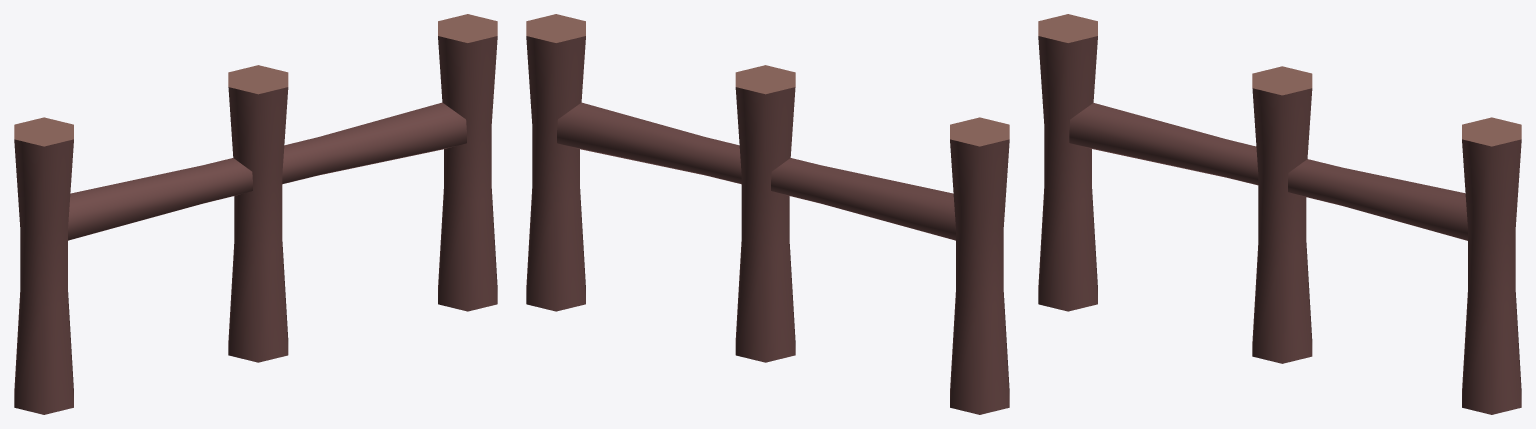
File: dojoFence2_MESH_v2.fbx
3 views of the same model, side by side, from view 1: azimuth 30°, elevation 25°; view 2: azimuth 150°, elevation 25°; view 3: azimuth 330°, elevation 25° (orthographic).
Parts seen in each view (by area): view 1: fence3_MESH; view 2: fence3_MESH; view 3: fence3_MESH.
Boxes of the visible parts, x1,y1,x2,y2 form: fence3_MESH: [14, 14, 497, 414]; fence3_MESH: [526, 14, 1009, 414]; fence3_MESH: [1038, 14, 1521, 414].
Bounding box in the file's own units: 95.46 × 50.63 × 10.24.
